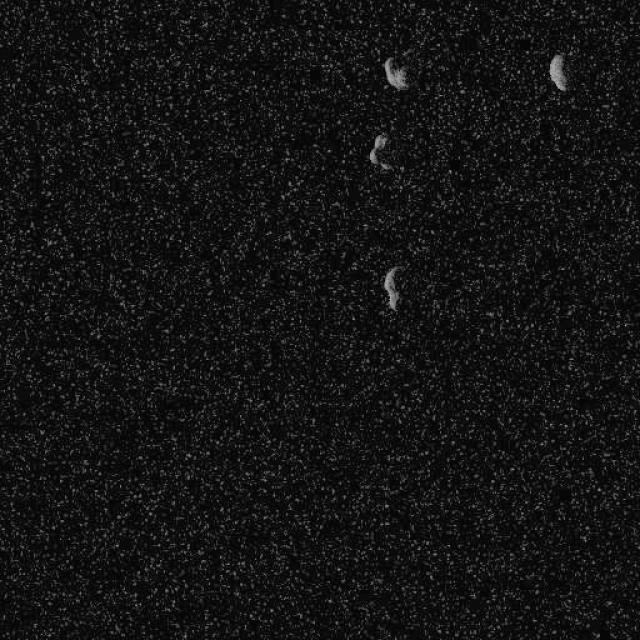D2: (368, 131, 392, 171), (382, 55, 408, 91), (382, 265, 402, 311), (548, 51, 568, 91)
